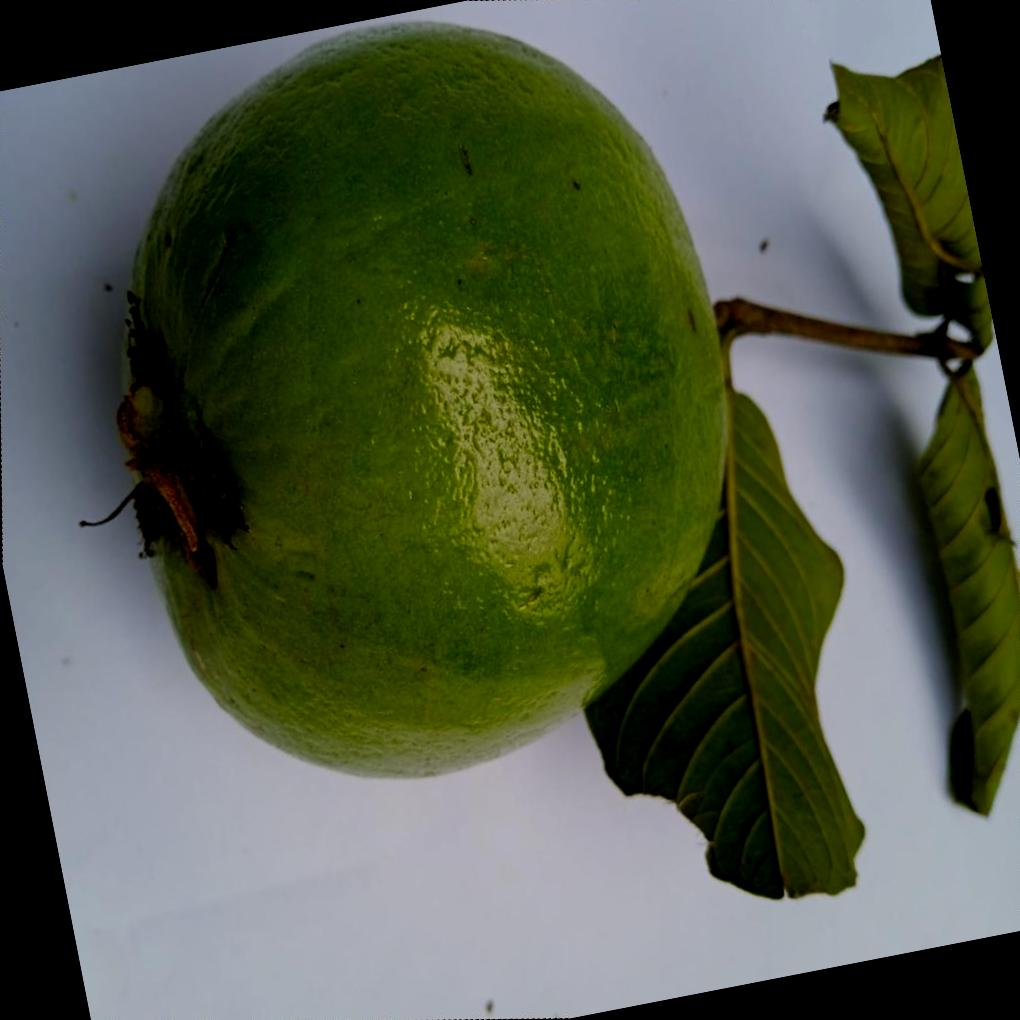FreshGuava: (113, 17, 734, 778)
